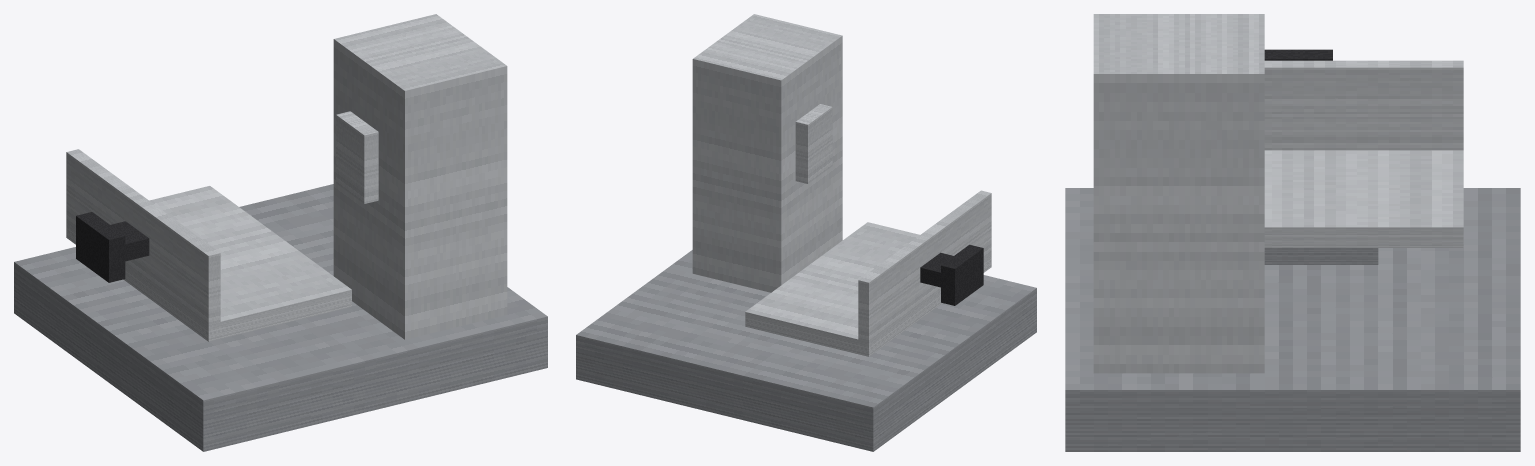
The model's file is kitchen_slicer.obj.
3 renders of one model, left to right at view 1: azimuth 30°, elevation 25°; view 2: azimuth 150°, elevation 25°; view 3: azimuth 270°, elevation 25°, orthographic. The views are drawn at different scales.
Visible parts, largest first — view 1: kitchen_slicer; view 2: kitchen_slicer; view 3: kitchen_slicer.
Part boxes in pixels (box(x1,y1,x2,y2)): kitchen_slicer: box(14, 14, 547, 451); kitchen_slicer: box(576, 14, 1036, 451); kitchen_slicer: box(1065, 14, 1520, 451).
Size of the model in its own units: 0.88 by 0.7 by 0.8.
